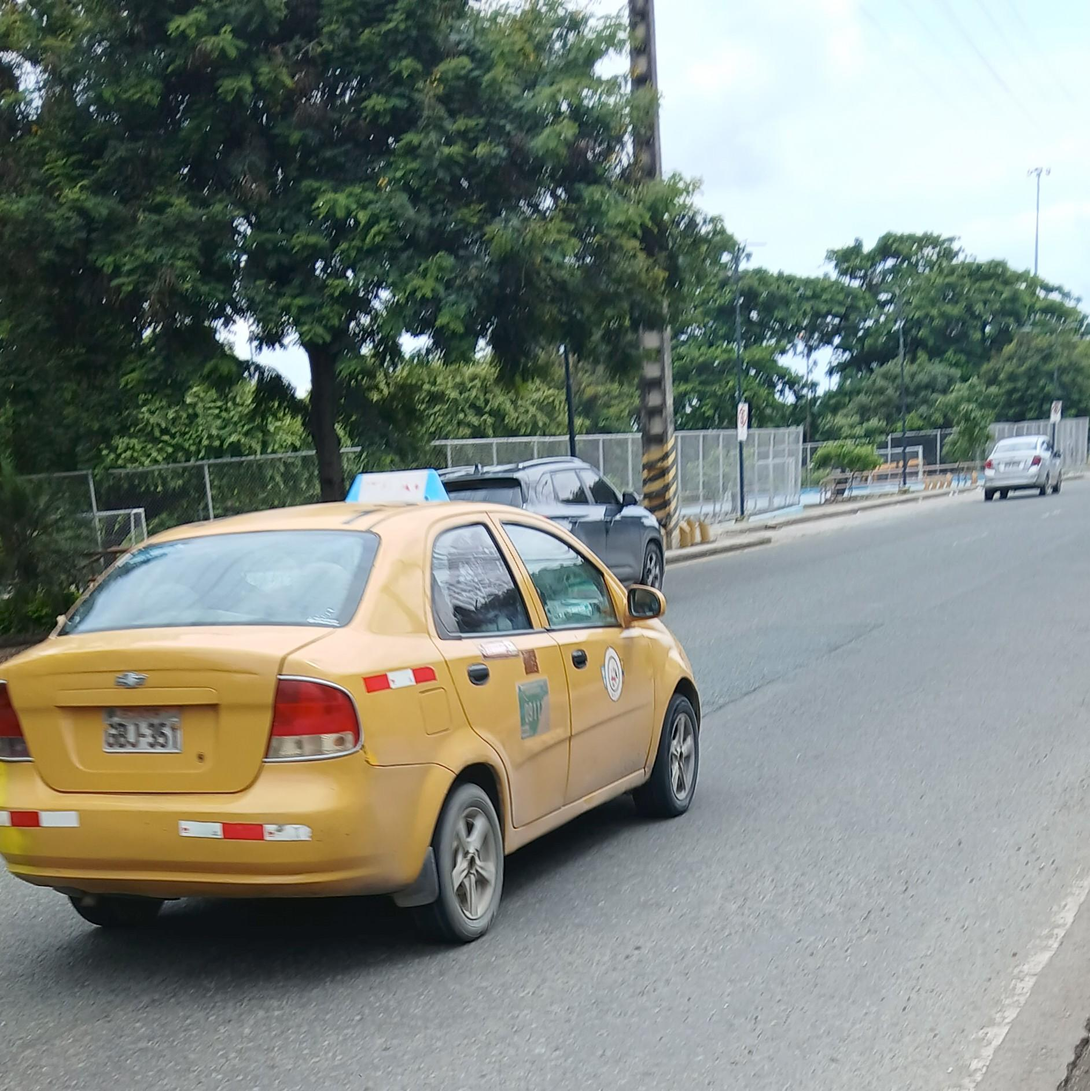license_plate: (100, 708, 182, 751), (1001, 461, 1022, 470)
